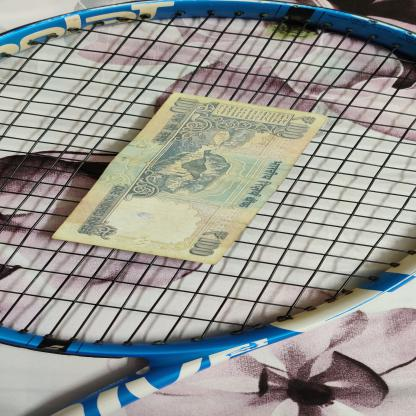Old100Back: (51, 92, 330, 265)
